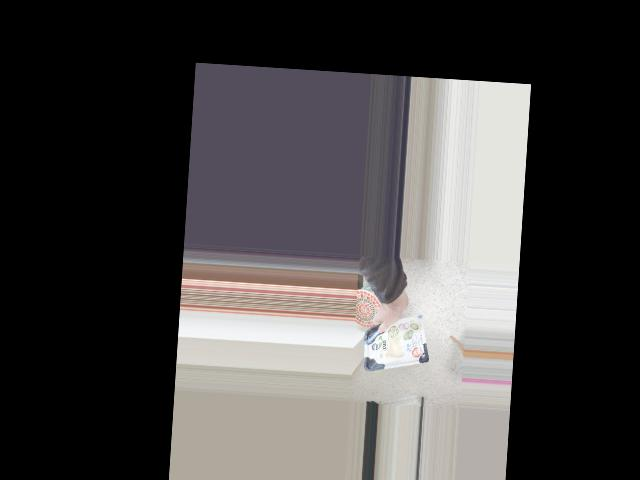cheese: (358, 317, 432, 369)
